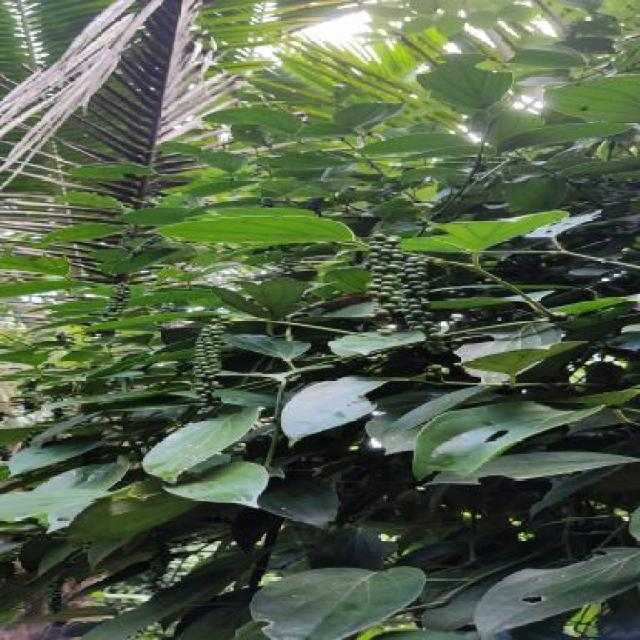UNRIPE: (363, 235, 454, 351), (190, 315, 219, 400), (119, 228, 159, 265), (142, 531, 169, 582), (98, 283, 134, 319), (43, 578, 66, 617)
